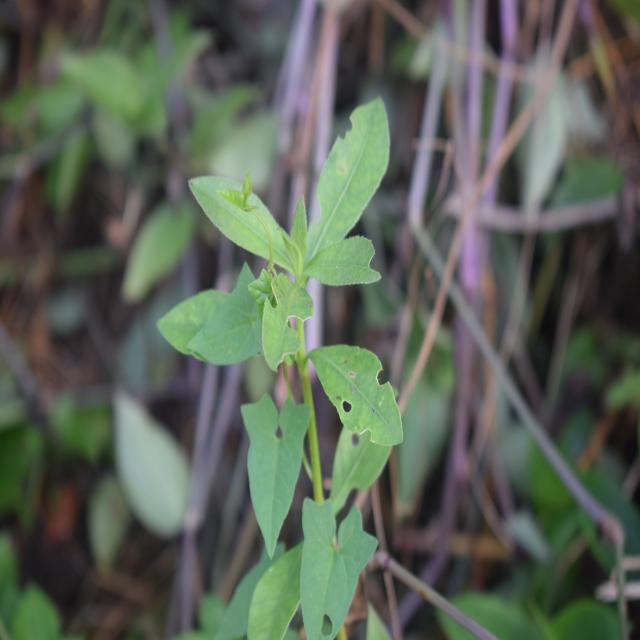Alligatorweed: (184, 122, 420, 530)
